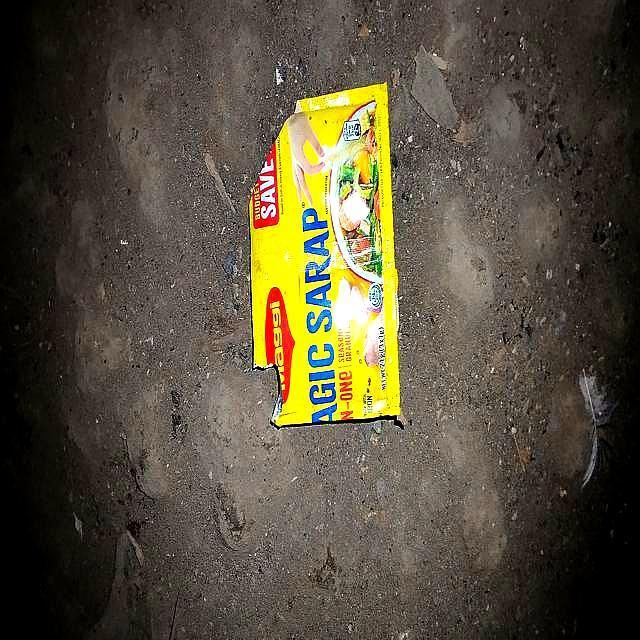Non-biodegradable: (247, 81, 402, 430)
